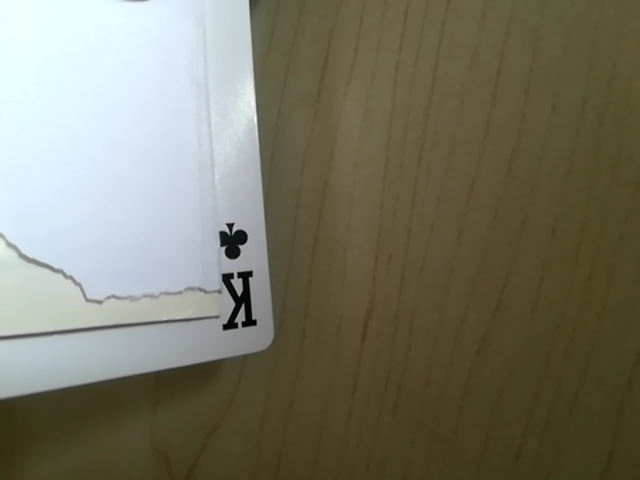mh k: (193, 203, 288, 354)
